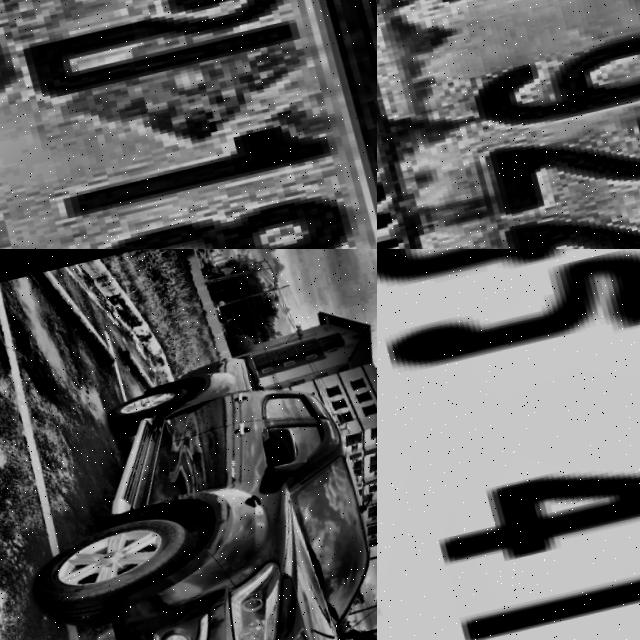license-plate: (377, 249, 640, 640), (0, 0, 377, 249), (377, 0, 640, 249)
